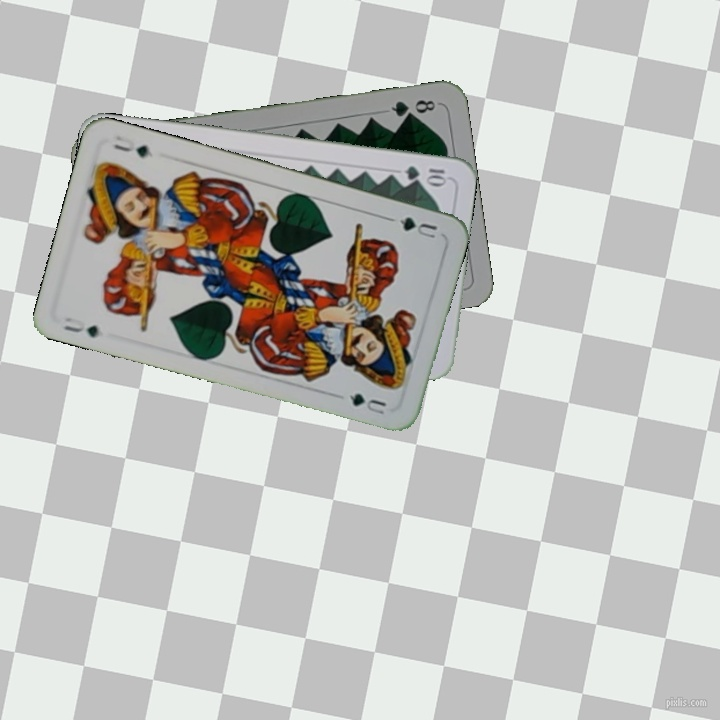G10: (401, 162, 450, 186)
G8: (387, 95, 438, 120)
GU: (395, 213, 440, 241), (58, 313, 102, 340)
